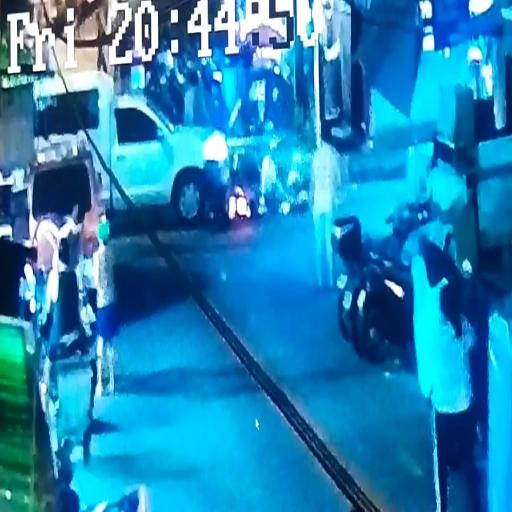Car: (12, 66, 241, 222), (14, 130, 112, 286)
Major Accident: (18, 50, 337, 238)
Motor: (192, 98, 338, 245), (334, 212, 452, 356)
